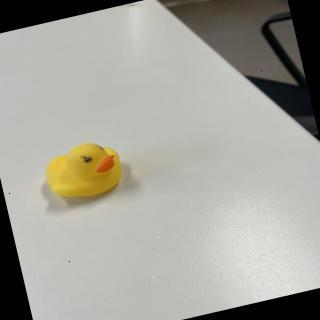duck_regular: (40, 136, 130, 207)
